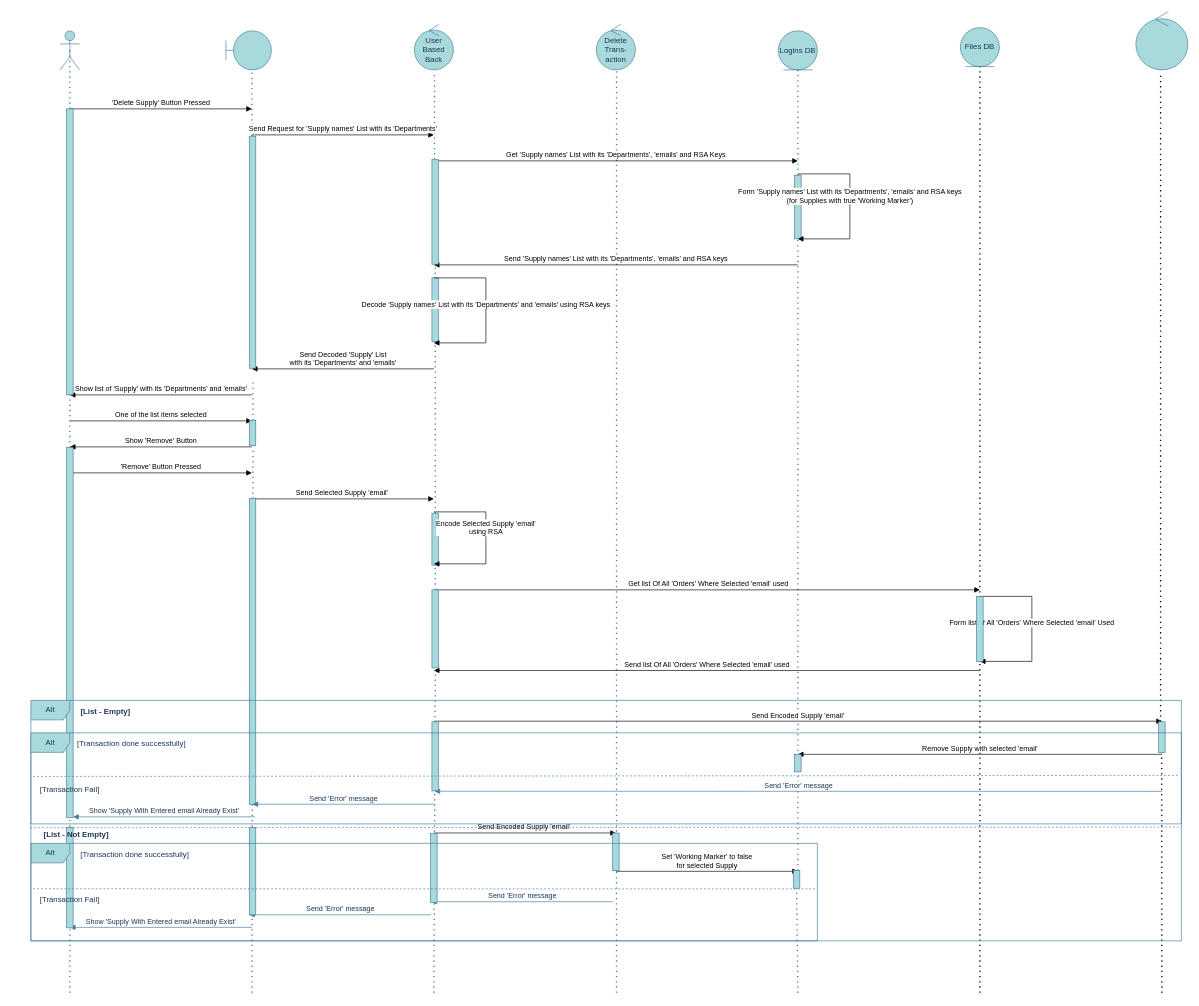
This 1199x1006 diagram has some shape labels left out. The centre of each missing label's shape, as x and y in pixels:
Admin: (69,50)
Complete Delete Trans-action: (1161,40)
UI: (248,50)
